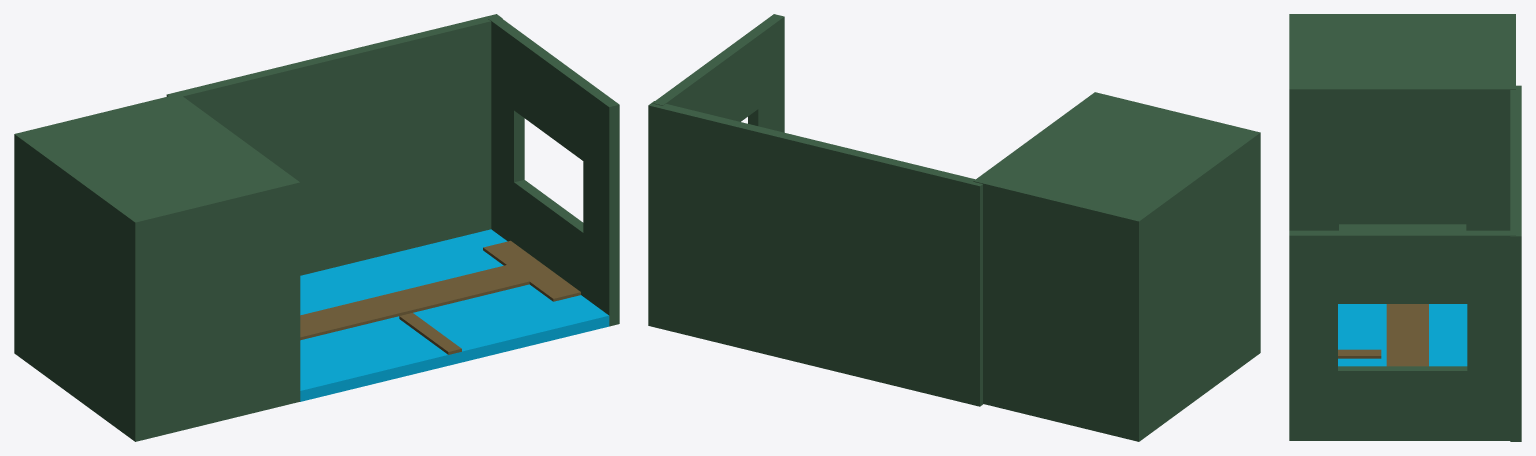
The model's file is First Level.glb.
3 renders of one model, left to right at view 1: azimuth 30°, elevation 25°; view 2: azimuth 150°, elevation 25°; view 3: azimuth 270°, elevation 25°, orthographic. The views are drawn at different scales.
Parts seen in each view (by area): view 1: Low Cut Wall-col, Wall-col, High Cut Wall-col, Floor, Planks-col, Solo Plank-col; view 2: Low Cut Wall-col, Wall-col, High Cut Wall-col; view 3: Low Cut Wall-col, High Cut Wall-col, Floor, Wall-col, Planks-col, Solo Plank-col.
Part boxes in pixels (<box>): Low Cut Wall-col: <box>14,94,300,441</box>; Wall-col: <box>166,14,502,275</box>; High Cut Wall-col: <box>488,16,619,326</box>; Floor: <box>300,229,609,401</box>; Planks-col: <box>300,240,580,340</box>; Solo Plank-col: <box>399,313,461,354</box>; Low Cut Wall-col: <box>973,92,1260,441</box>; Wall-col: <box>648,101,983,406</box>; High Cut Wall-col: <box>652,14,784,132</box>; Low Cut Wall-col: <box>1289,14,1515,230</box>; High Cut Wall-col: <box>1289,230,1515,440</box>; Floor: <box>1338,304,1467,366</box>; Wall-col: <box>1510,85,1521,441</box>; Planks-col: <box>1386,304,1428,366</box>; Solo Plank-col: <box>1338,349,1381,358</box>.
Size of the model in its own units: 71.86 by 31.12 by 31.82.
